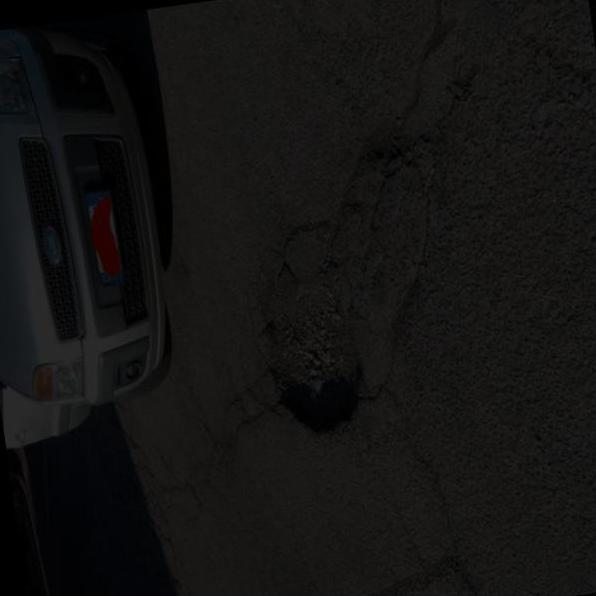pothole: (237, 279, 384, 452)
